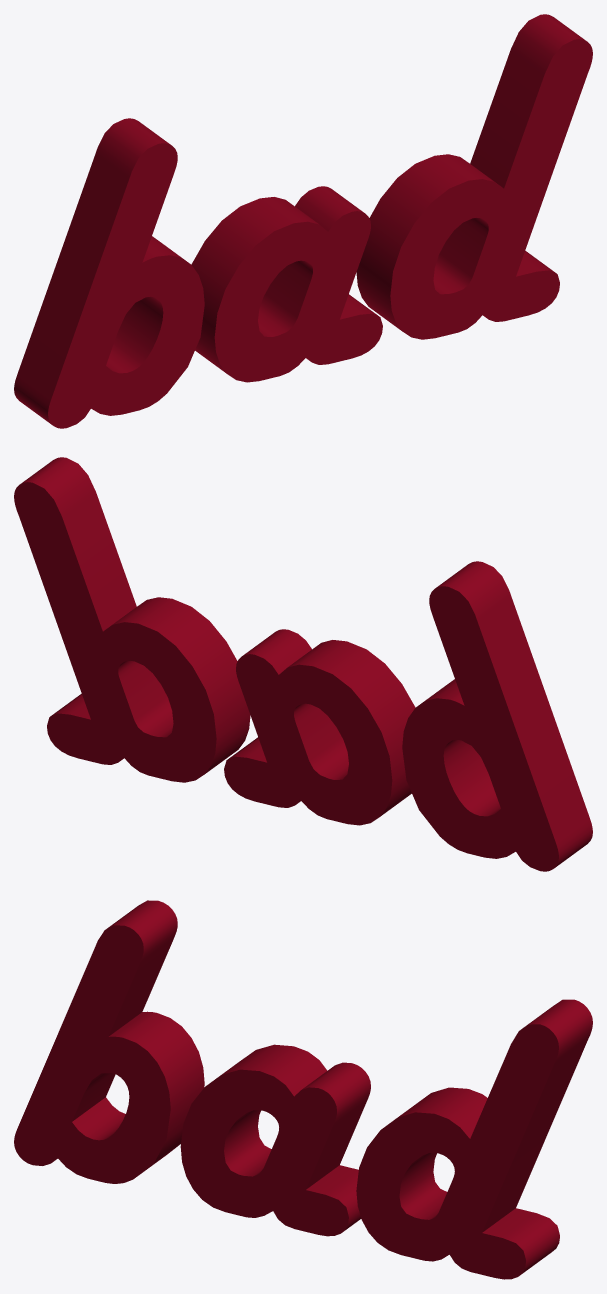
Rendered from bad.fbx.
The picture shows the model from 3 angles, top to bottom: view 1: azimuth 30°, elevation 25°; view 2: azimuth 150°, elevation 25°; view 3: azimuth 330°, elevation 25°; orthographic projection.
Parts seen in each view (by area): view 1: node_id70; view 2: node_id70; view 3: node_id70.
Boxes of the visible parts, <box> form: node_id70: <box>14,14,592,428</box>; node_id70: <box>14,457,592,871</box>; node_id70: <box>14,900,592,1279</box>.
Size of the model in its own units: 0.139 by 0.0645 by 0.015.
